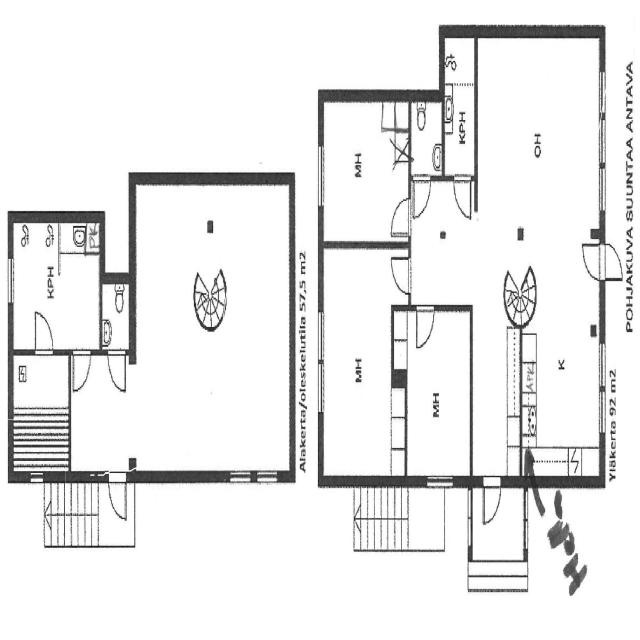door: (584, 239, 628, 283), (394, 180, 430, 232), (106, 467, 130, 523), (450, 170, 475, 223), (105, 344, 129, 398), (481, 473, 504, 529), (69, 344, 92, 399), (31, 306, 56, 356), (414, 302, 437, 354), (410, 172, 433, 222), (388, 250, 412, 297), (388, 194, 413, 239)
window: (594, 55, 610, 228), (312, 306, 330, 423), (594, 335, 612, 445), (222, 462, 273, 496), (421, 467, 458, 497), (314, 138, 328, 216), (250, 464, 282, 492), (5, 253, 16, 312), (27, 467, 47, 490)
zone: (473, 25, 603, 484), (134, 180, 292, 479), (320, 243, 407, 484), (320, 96, 410, 246), (400, 307, 471, 484), (13, 213, 102, 353), (9, 349, 70, 475), (443, 30, 476, 180), (409, 94, 444, 179), (100, 276, 132, 352)
